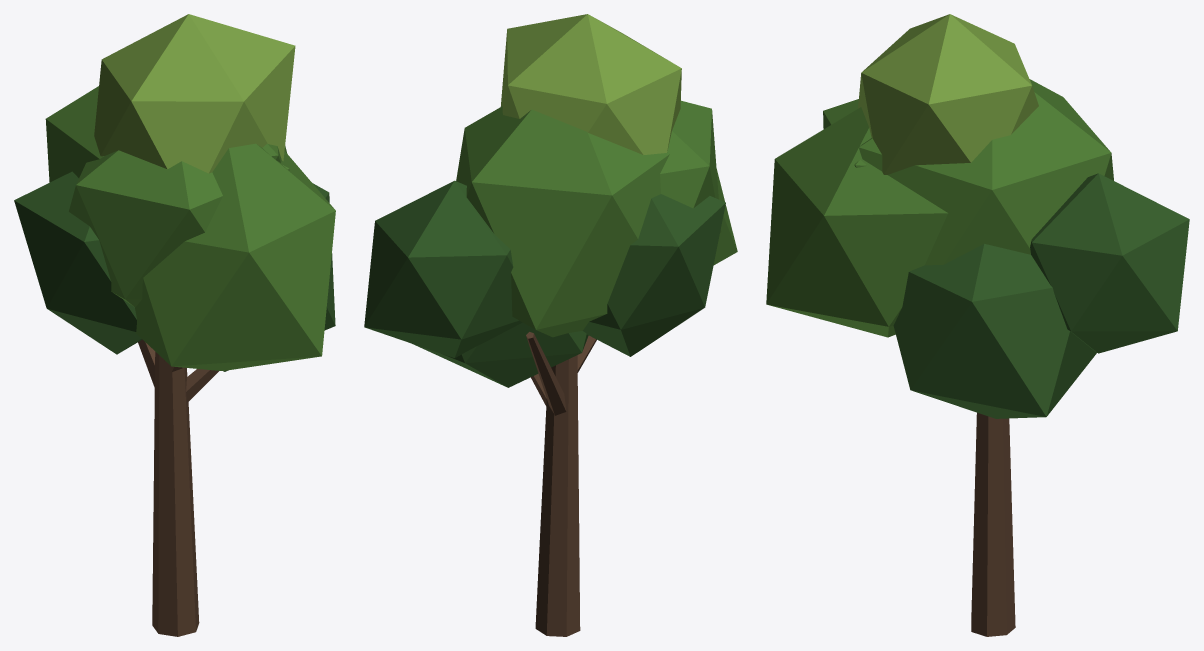
The model's file is UM_Laubbaum_Jung.fbx.
The picture shows the model from 3 angles, left to right: view 1: azimuth 30°, elevation 25°; view 2: azimuth 150°, elevation 25°; view 3: azimuth 270°, elevation 25°; orthographic projection. The views are drawn at different scales.
Visible parts, largest first — view 1: UM_Laubbaum_Jung; view 2: UM_Laubbaum_Jung; view 3: UM_Laubbaum_Jung.
Part boxes in pixels (<box>): UM_Laubbaum_Jung: <box>14,14,335,636</box>; UM_Laubbaum_Jung: <box>364,14,737,636</box>; UM_Laubbaum_Jung: <box>766,14,1189,636</box>.
Bounding box in the file's own units: 2.78 × 5.55 × 3.49.
